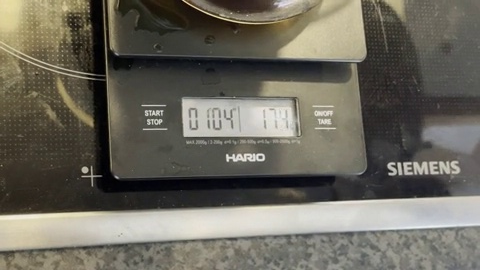display: (181, 97, 296, 136)
